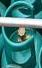cylinder: (1, 0, 42, 68)
